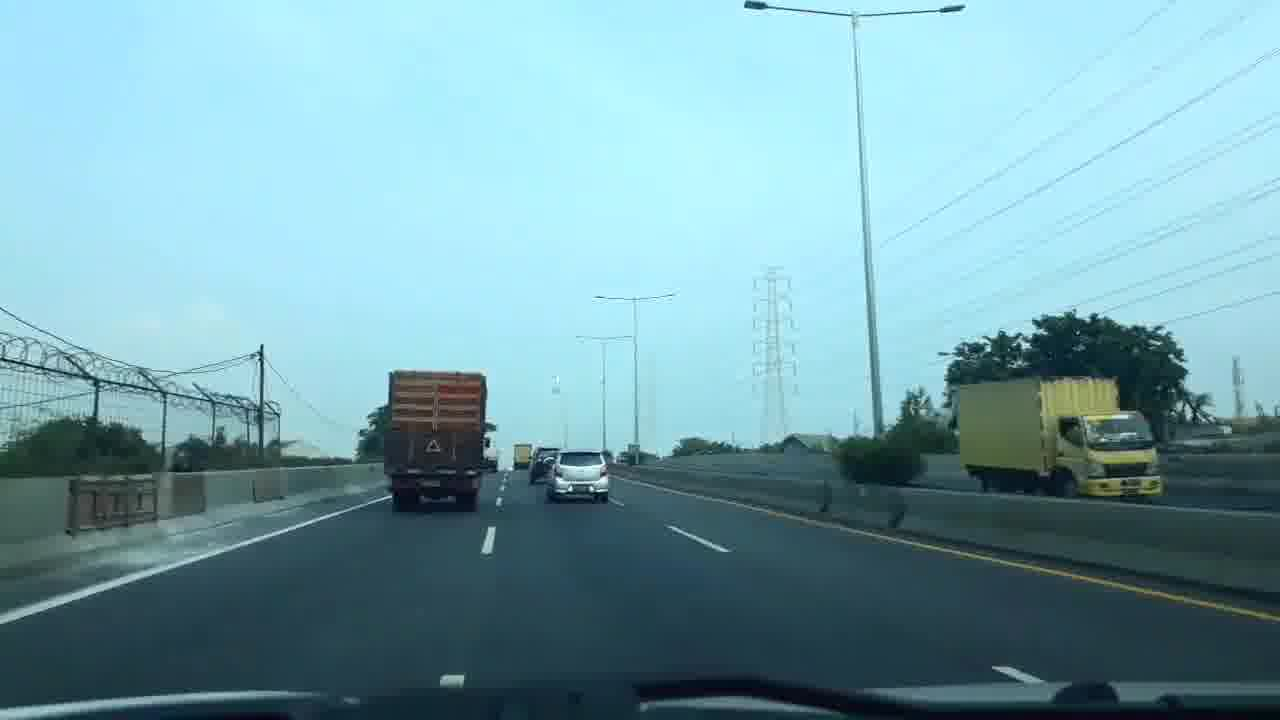plate_positive: (417, 479, 441, 488), (572, 484, 590, 492)
